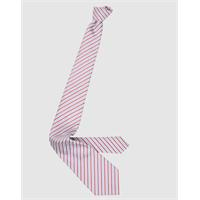tie: (48, 6, 130, 195)
